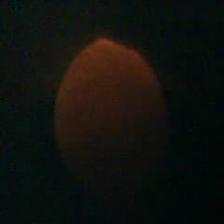fertile: (52, 38, 170, 212)
